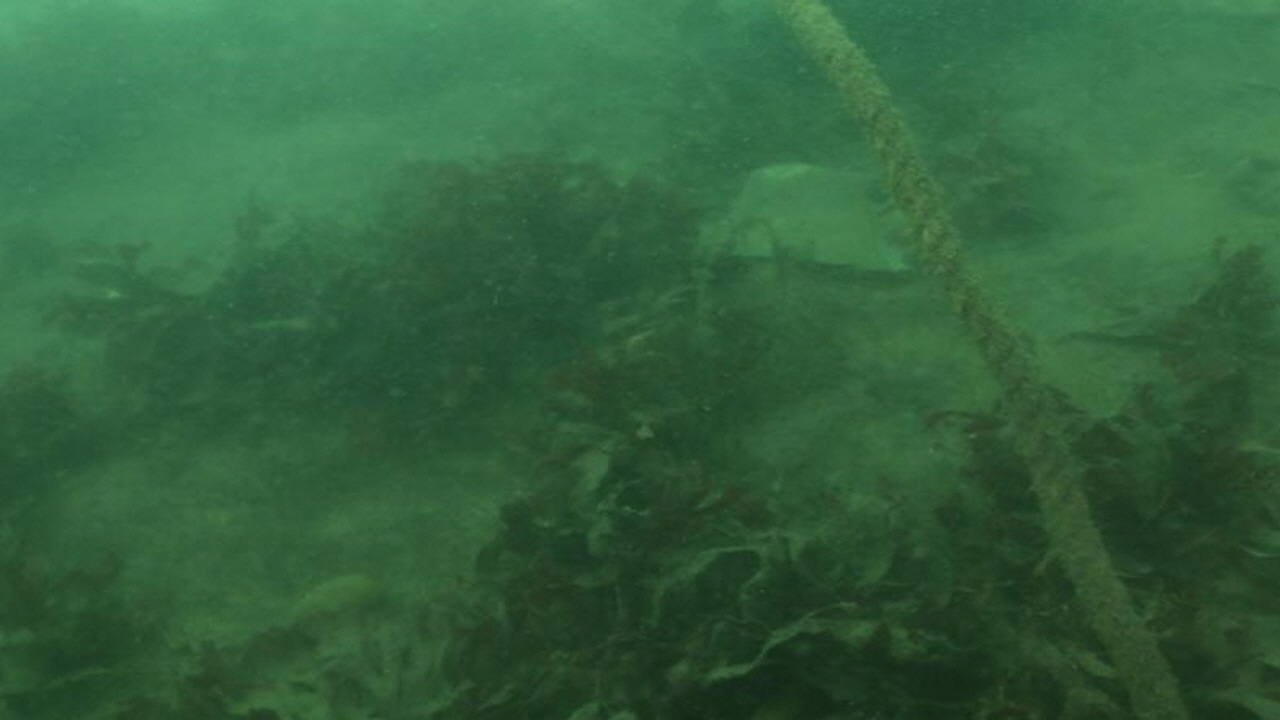rope: (768, 0, 1190, 720)
